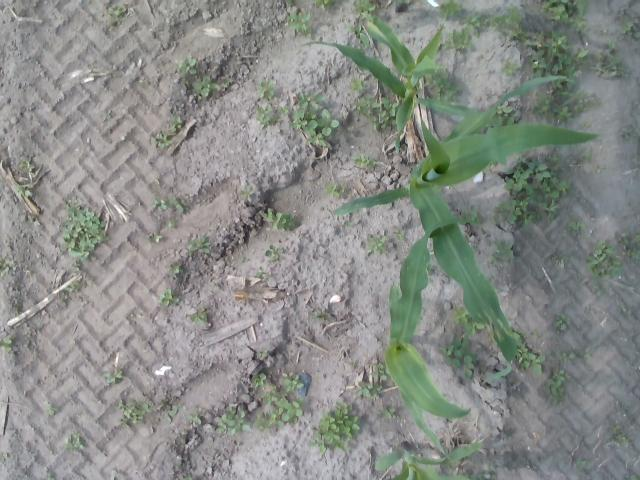Maize: (334, 74, 600, 384), (301, 12, 479, 155), (384, 219, 478, 460), (375, 442, 482, 480)
Weeds: (492, 152, 572, 232), (59, 194, 111, 262), (526, 30, 590, 77), (309, 400, 361, 456), (294, 89, 342, 148), (530, 83, 602, 119), (256, 384, 307, 434), (119, 398, 182, 428), (541, 0, 591, 36), (441, 334, 478, 380), (352, 94, 396, 132), (586, 239, 624, 281), (590, 40, 628, 78), (490, 6, 530, 42), (215, 403, 252, 436), (543, 368, 569, 406), (258, 206, 296, 232), (253, 104, 290, 128), (516, 346, 546, 374), (148, 194, 187, 215), (286, 10, 314, 38), (442, 27, 472, 52), (462, 11, 486, 40), (619, 232, 640, 264), (364, 234, 388, 258), (192, 76, 218, 98), (282, 372, 308, 394), (492, 239, 514, 265), (256, 79, 280, 101), (176, 54, 200, 76), (469, 464, 502, 480), (461, 202, 481, 227), (440, 0, 466, 19), (150, 132, 177, 150), (354, 382, 381, 400), (348, 22, 369, 45), (186, 236, 210, 256), (354, 0, 376, 21), (190, 304, 211, 326), (617, 22, 640, 42), (66, 430, 86, 453), (548, 348, 576, 364), (107, 5, 128, 26), (606, 426, 630, 444), (157, 288, 180, 306), (104, 366, 125, 385), (552, 314, 571, 334), (452, 304, 470, 324), (440, 86, 462, 102), (190, 404, 206, 426), (238, 186, 256, 204), (348, 75, 366, 93), (250, 372, 268, 390), (353, 154, 376, 168), (0, 257, 15, 278), (433, 74, 455, 88), (264, 244, 283, 260), (164, 262, 183, 278), (371, 360, 386, 380), (464, 320, 485, 334), (19, 156, 36, 173), (167, 114, 183, 132), (502, 58, 520, 74), (16, 182, 34, 198), (578, 145, 593, 164), (324, 182, 344, 196), (313, 0, 337, 11), (379, 405, 396, 420), (618, 126, 634, 140), (1, 337, 16, 351), (313, 306, 326, 322), (514, 328, 525, 346), (258, 350, 272, 364), (65, 280, 81, 292), (41, 468, 57, 480), (255, 266, 270, 278), (148, 234, 166, 244), (498, 104, 514, 115), (552, 253, 568, 264), (46, 402, 56, 419), (396, 224, 406, 241), (208, 280, 222, 292), (103, 107, 114, 122), (570, 219, 584, 230), (590, 284, 602, 296), (68, 262, 82, 272), (24, 324, 34, 338), (620, 305, 634, 315), (617, 8, 628, 20), (28, 215, 40, 226), (580, 348, 592, 359), (596, 166, 609, 176), (224, 76, 233, 88), (578, 120, 590, 129), (58, 291, 68, 301), (576, 456, 586, 466), (168, 220, 180, 228), (13, 303, 21, 314), (624, 474, 638, 480), (550, 154, 560, 162), (350, 362, 360, 370), (532, 330, 540, 340), (184, 474, 196, 480), (286, 0, 298, 6), (138, 77, 148, 84), (36, 316, 43, 326), (242, 256, 250, 264), (586, 308, 596, 314), (178, 436, 186, 442), (345, 221, 353, 226), (122, 135, 125, 143)
